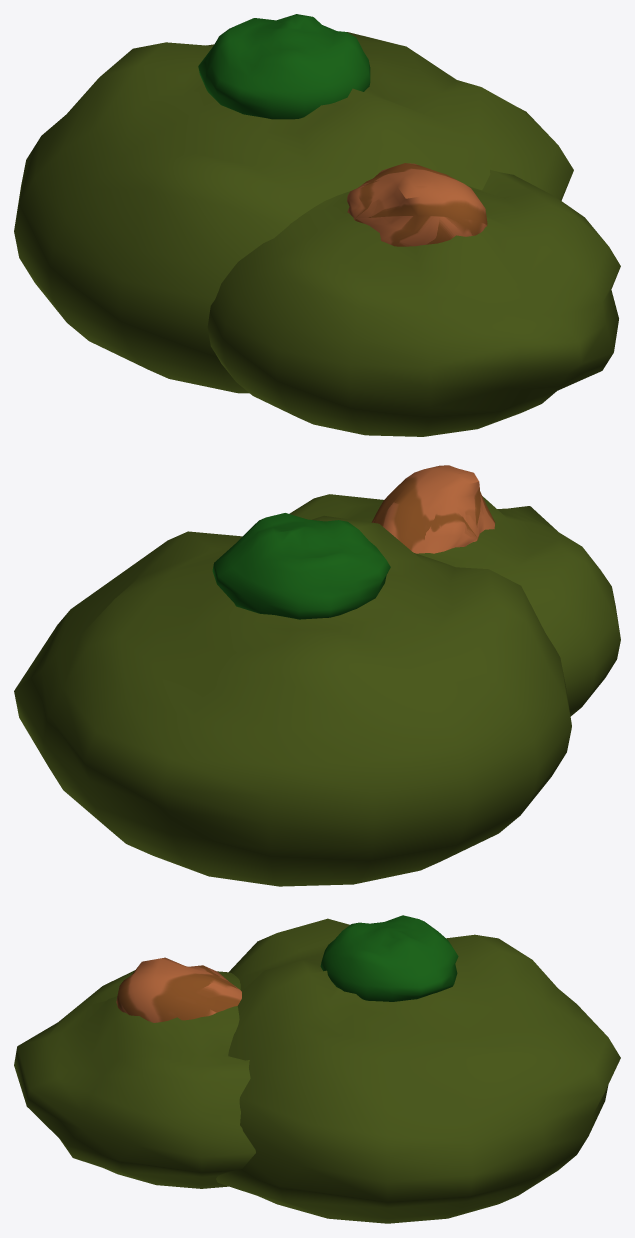
File: Déchet.fbx
3 views of the same model, one above another, from view 1: azimuth 30°, elevation 25°; view 2: azimuth 150°, elevation 25°; view 3: azimuth 270°, elevation 25° (orthographic). The views are drawn at different scales.
Parts seen in each view (by area): view 1: Sphere.006, Sphere.009, Sphere.007, Sphere.008; view 2: Sphere.006, Sphere.009, Sphere.007, Sphere.008; view 3: Sphere.006, Sphere.009, Sphere.007, Sphere.008.
Boxes of the visible parts, bbox=[...] form: Sphere.006: bbox=[14, 32, 573, 393]; Sphere.009: bbox=[207, 169, 620, 436]; Sphere.007: bbox=[198, 14, 370, 119]; Sphere.008: bbox=[347, 163, 487, 246]; Sphere.006: bbox=[14, 515, 571, 886]; Sphere.009: bbox=[289, 494, 620, 716]; Sphere.007: bbox=[212, 513, 390, 619]; Sphere.008: bbox=[371, 465, 495, 553]; Sphere.006: bbox=[216, 918, 620, 1223]; Sphere.009: bbox=[14, 970, 255, 1188]; Sphere.007: bbox=[320, 915, 458, 1001]; Sphere.008: bbox=[116, 957, 241, 1022].
Size of the model in its own units: 309 by 192 by 404.
